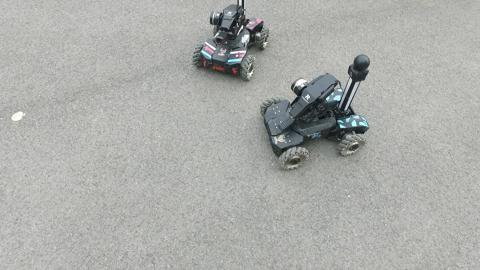chariot: (256, 50, 375, 170), (185, 2, 274, 84)
